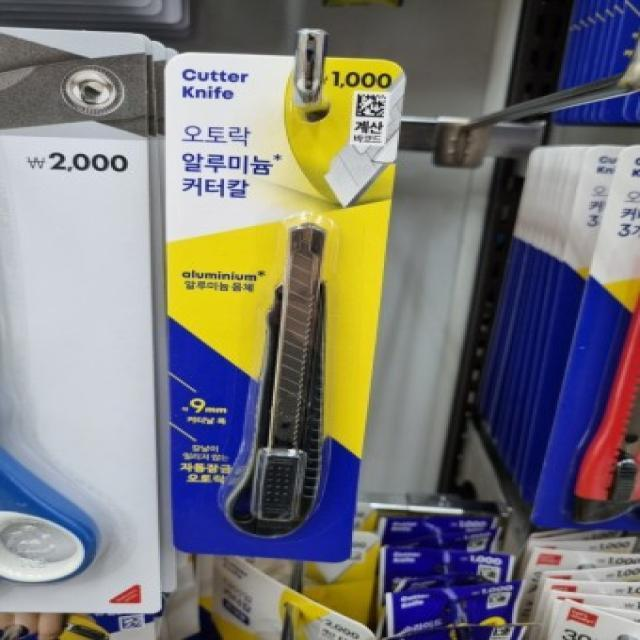cutter: (202, 208, 345, 536)
